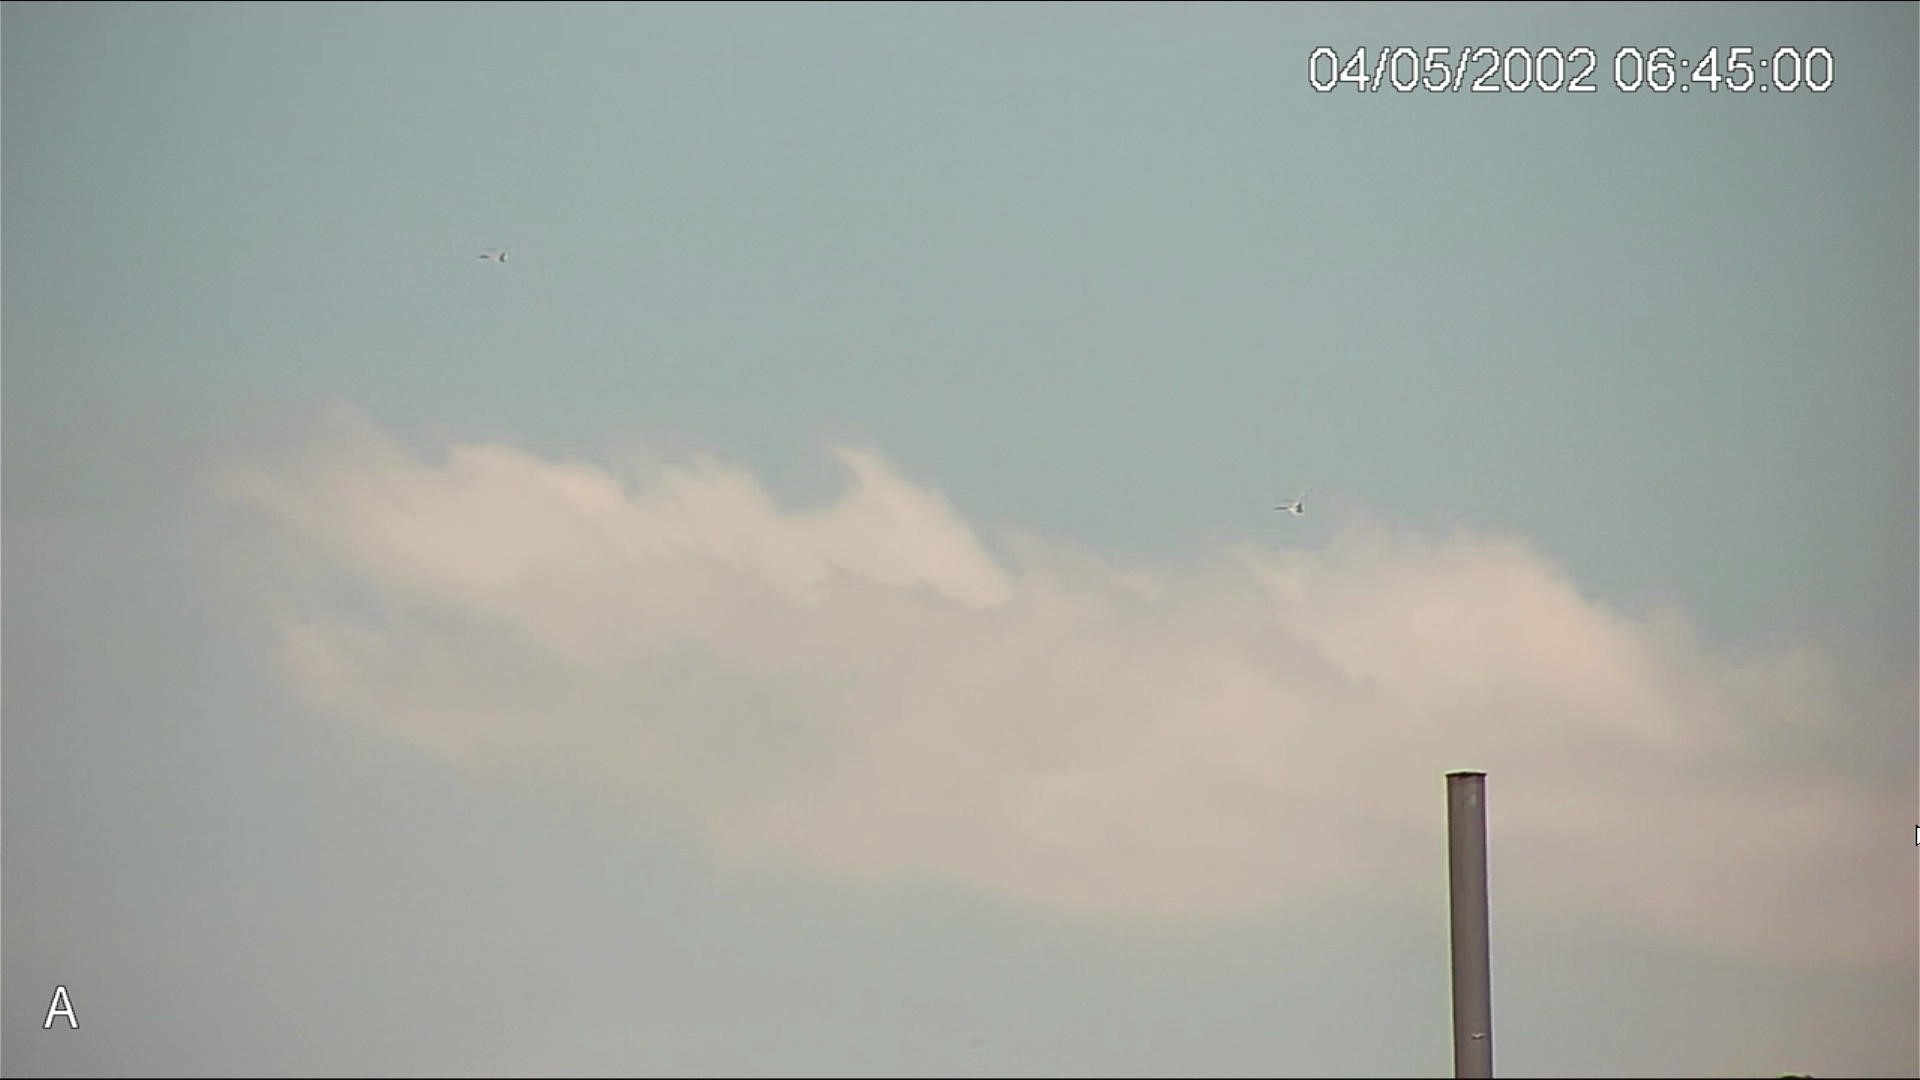SU_30: (1271, 496, 1308, 518)
